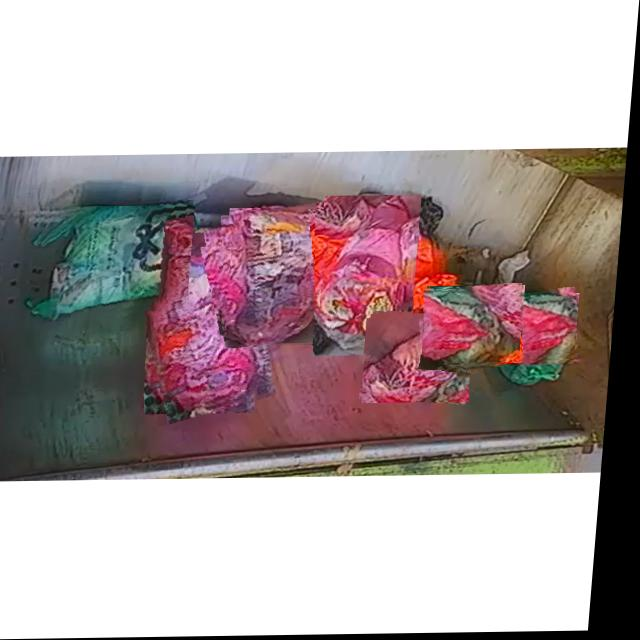general_trashbag: (36, 206, 199, 321), (433, 291, 526, 364)
other_trashbag: (140, 247, 264, 408), (324, 198, 417, 355), (232, 210, 338, 347), (370, 320, 478, 404), (463, 300, 583, 362)
